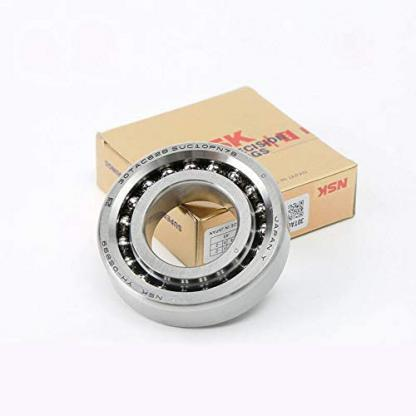FOD: (72, 136, 302, 337)
